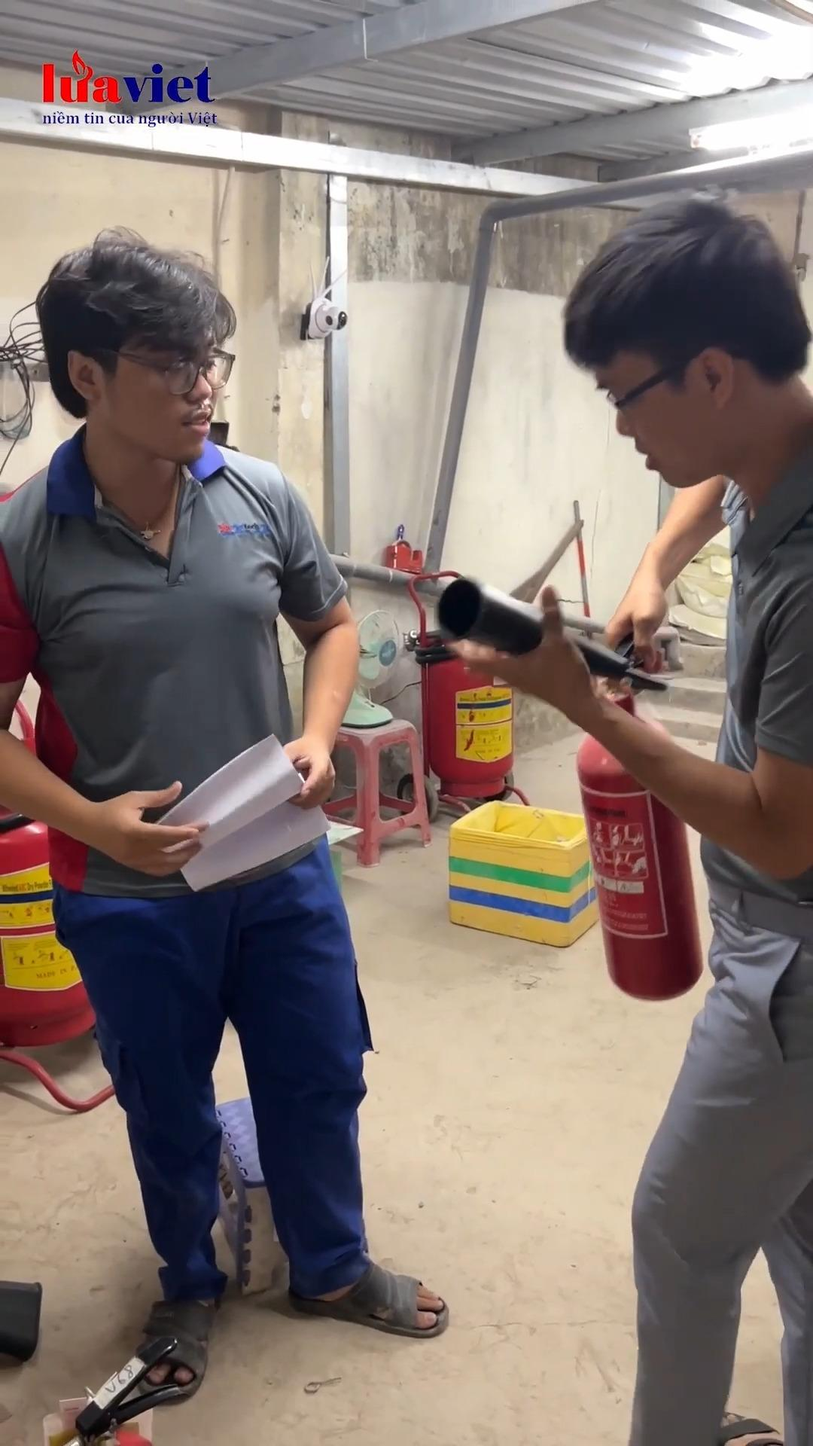FireExtinguisher: (565, 618, 703, 1019), (0, 758, 119, 1135), (411, 618, 529, 807)
not: (0, 562, 117, 867), (456, 810, 580, 955), (23, 38, 119, 123)
